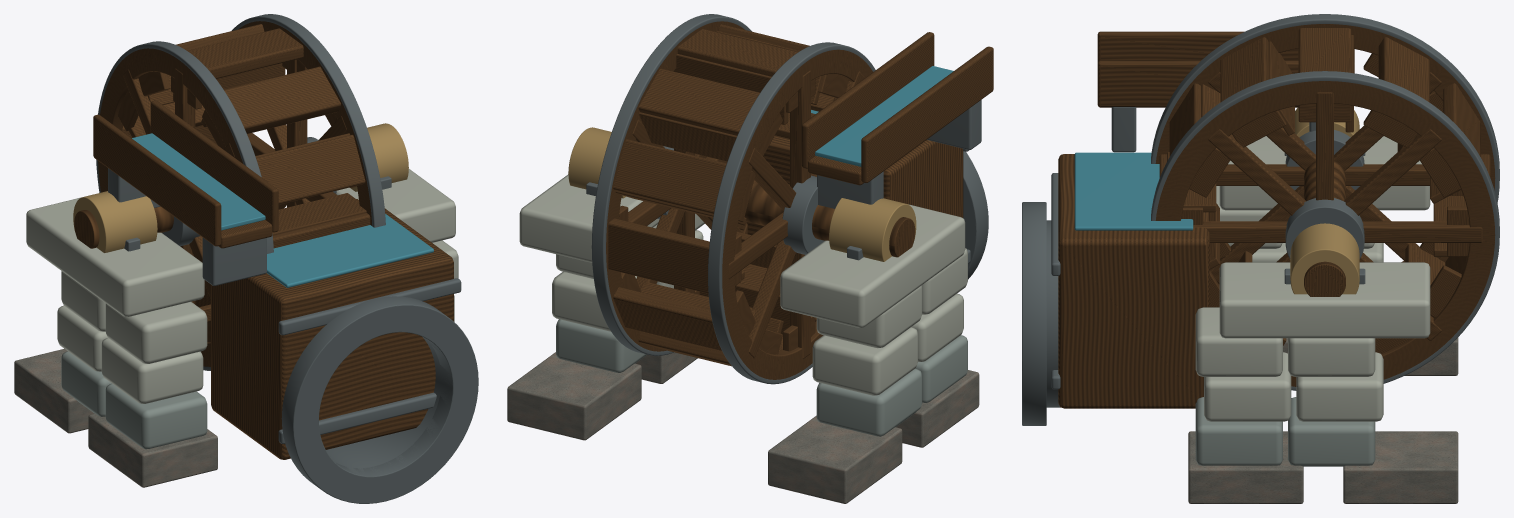
The model's file is stone-water-wheel-v1.glb.
3 renders of one model, left to right at view 1: azimuth 30°, elevation 25°; view 2: azimuth 150°, elevation 25°; view 3: azimuth 270°, elevation 25°, orthographic. The views are drawn at different scales.
Parts seen in each view (by area): view 1: Outlet | timber collection box, Outlet | canonical collar, Masonry | continuous bearing cap, Outlet | collection water surface, Discharge | race side rail, Outlet | canonical full bore throat, Footing | isolated structural pad, Scoop 05 | radial back, Scoop 04 | radial back, Discharge | race side rail.001, Masonry | fitted bearing pier.004, Masonry | fitted bearing pier (+30 smaller); view 2: Masonry | continuous bearing cap, Footing | isolated structural pad.001, Footing | isolated structural pad.003, Rim | segmented timber annulus, Discharge | race side rail, Rim | forged external retaining band, Rim | forged external retaining band.001, Outlet | timber collection box, Scoop 01 | radial back, Scoop 00 | radial back, Discharge | race side rail.001, Masonry | continuous bearing cap.001 (+38 smaller); view 3: Outlet | timber collection box, Rim | segmented timber annulus.001, Masonry | continuous bearing cap.001, Footing | isolated structural pad.003, Outlet | collection water surface, Outlet | canonical collar, Rim | forged external retaining band.001, Footing | isolated structural pad.002, Rim | forged external retaining band, Masonry | fitted bearing pier.010, Masonry | fitted bearing pier.009, Discharge | race side rail.001 (+43 smaller).
Boxes of the visible parts, <box> form: Outlet | timber collection box: <box>211,208,453,459</box>; Outlet | canonical collar: <box>281,296,478,503</box>; Masonry | continuous bearing cap: <box>26,197,204,316</box>; Outlet | collection water surface: <box>266,214,433,287</box>; Discharge | race side rail: <box>93,114,221,246</box>; Outlet | canonical full bore throat: <box>309,321,462,487</box>; Footing | isolated structural pad: <box>88,413,217,487</box>; Scoop 05 | radial back: <box>256,134,365,204</box>; Scoop 04 | radial back: <box>224,66,340,133</box>; Discharge | race side rail.001: <box>150,100,278,232</box>; Masonry | fitted bearing pier.004: <box>105,302,207,363</box>; Masonry | fitted bearing pier: <box>105,384,207,449</box>; Masonry | continuous bearing cap: <box>780,204,965,327</box>; Footing | isolated structural pad.001: <box>768,415,902,503</box>; Footing | isolated structural pad.003: <box>507,352,641,440</box>; Rim | segmented timber annulus: <box>722,49,872,379</box>; Discharge | race side rail: <box>861,46,993,182</box>; Rim | forged external retaining band: <box>708,42,875,384</box>; Rim | forged external retaining band.001: <box>591,14,751,355</box>; Outlet | timber collection box: <box>746,135,963,234</box>; Scoop 01 | radial back: <box>613,139,726,214</box>; Scoop 00 | radial back: <box>608,218,709,293</box>; Discharge | race side rail.001: <box>801,32,934,168</box>; Masonry | continuous bearing cap.001: <box>519,174,659,262</box>; Outlet | timber collection box: <box>1058,154,1209,408</box>; Rim | segmented timber annulus.001: <box>1155,81,1495,386</box>; Masonry | continuous bearing cap.001: <box>1219,262,1430,338</box>; Footing | isolated structural pad.003: <box>1343,431,1458,503</box>; Outlet | collection water surface: <box>1074,152,1193,230</box>; Outlet | canonical collar: <box>1022,202,1046,425</box>; Rim | forged external retaining band.001: <box>1151,71,1499,390</box>; Footing | isolated structural pad.002: <box>1188,431,1303,503</box>; Rim | forged external retaining band: <box>1151,14,1499,203</box>; Masonry | fitted bearing pier.010: <box>1195,307,1282,376</box>; Masonry | fitted bearing pier.009: <box>1296,352,1383,421</box>; Discharge | race side rail.001: <box>1097,60,1354,106</box>.
Size of the model in its own units: 1.22 by 1.26 by 1.45.
7 materials, 2 textured.
